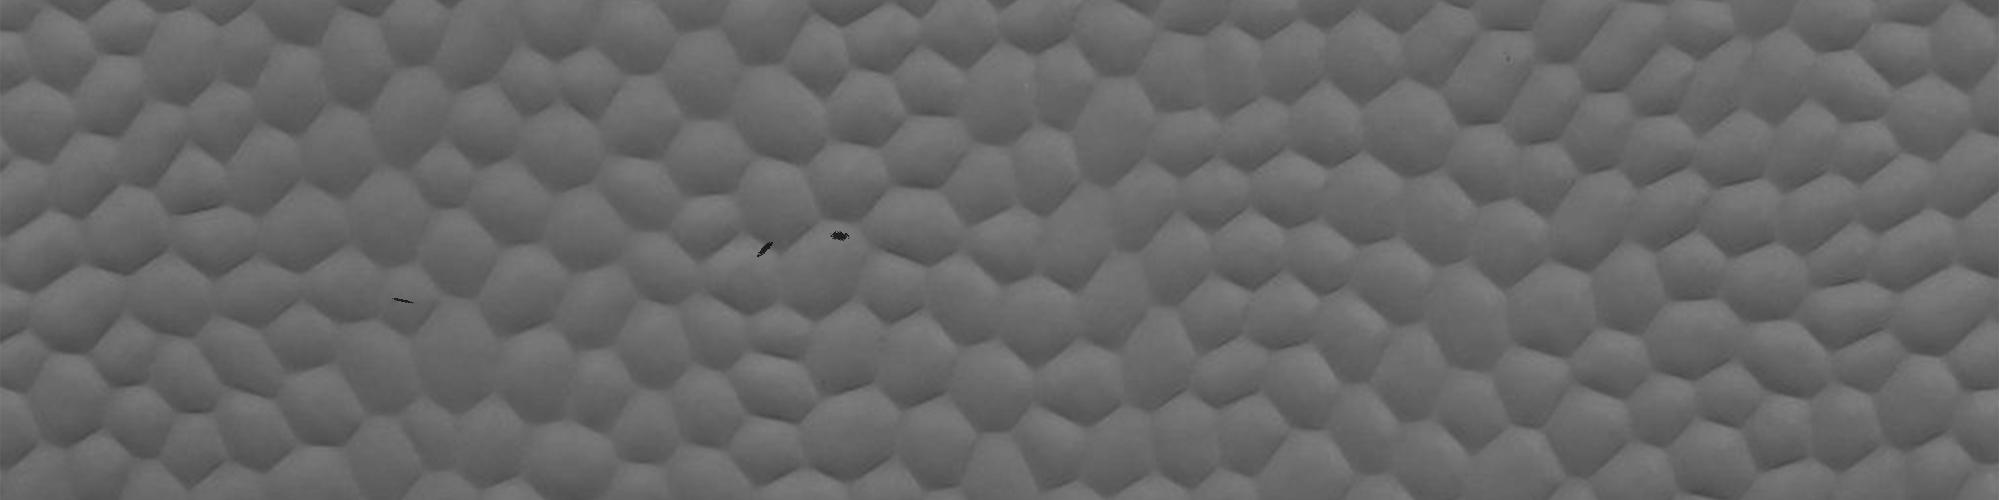Decomposed: (386, 290, 421, 316), (751, 232, 781, 263), (821, 224, 855, 245)
